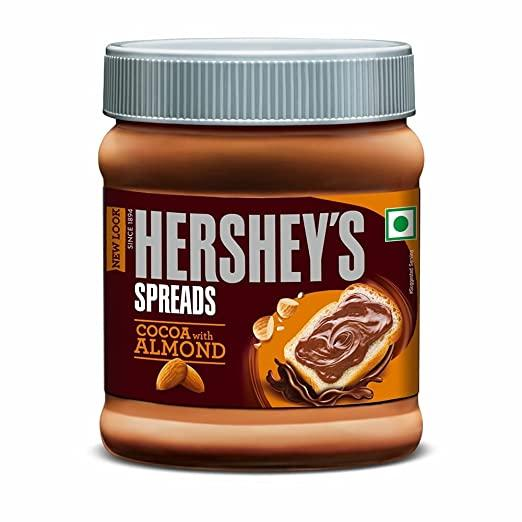Hershey-s: (93, 33, 426, 475)
